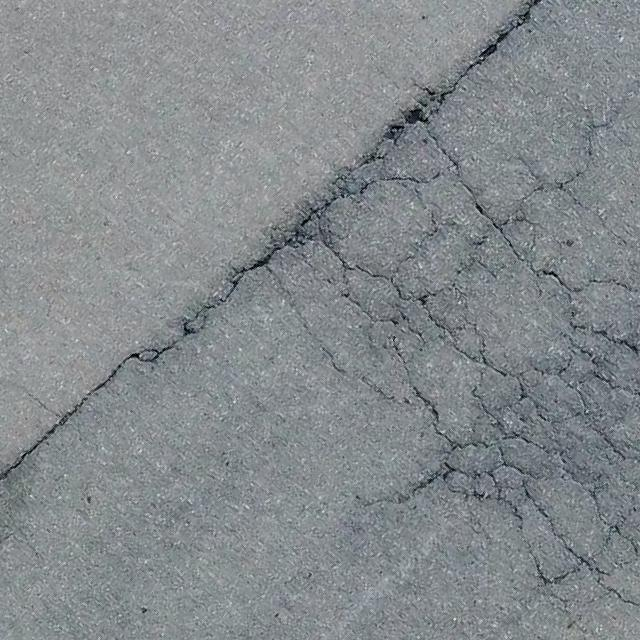GRIETA: (0, 268, 247, 480), (430, 0, 545, 111), (574, 95, 623, 178), (355, 472, 440, 507)
PIEL DE COCODRILO: (251, 104, 639, 639)
